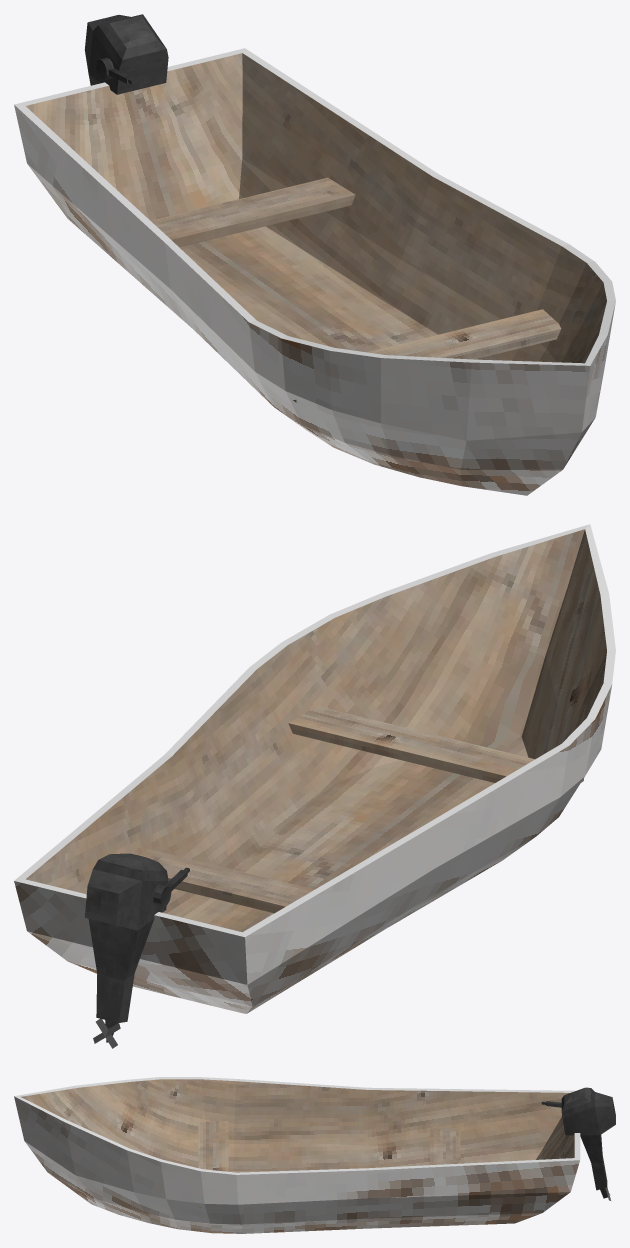
File: Boat.fbx
The picture shows the model from 3 angles, top to bottom: view 1: azimuth 30°, elevation 25°; view 2: azimuth 150°, elevation 25°; view 3: azimuth 270°, elevation 25°; orthographic projection. The views are drawn at different scales.
Visible parts, largest first — view 1: Cube; view 2: Cube; view 3: Cube.
Part boxes in pixels (x1,y1,x2,y2): Cube: (14,14,615,495); Cube: (14,524,615,1048); Cube: (14,1077,615,1233).
Size of the model in its own units: 42.43 by 24.55 by 112.
